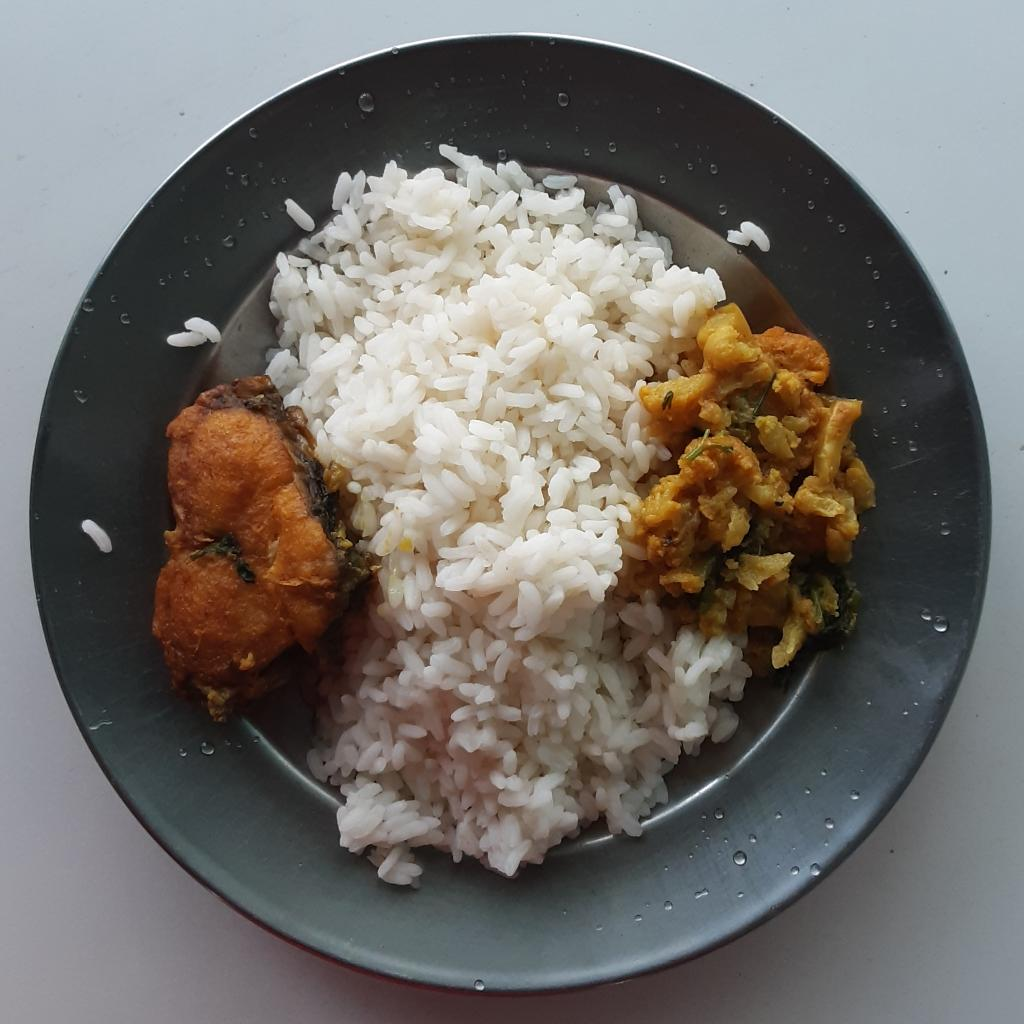cauliflower: (608, 295, 877, 667)
fish: (152, 362, 376, 717)
rice: (261, 138, 753, 894)
